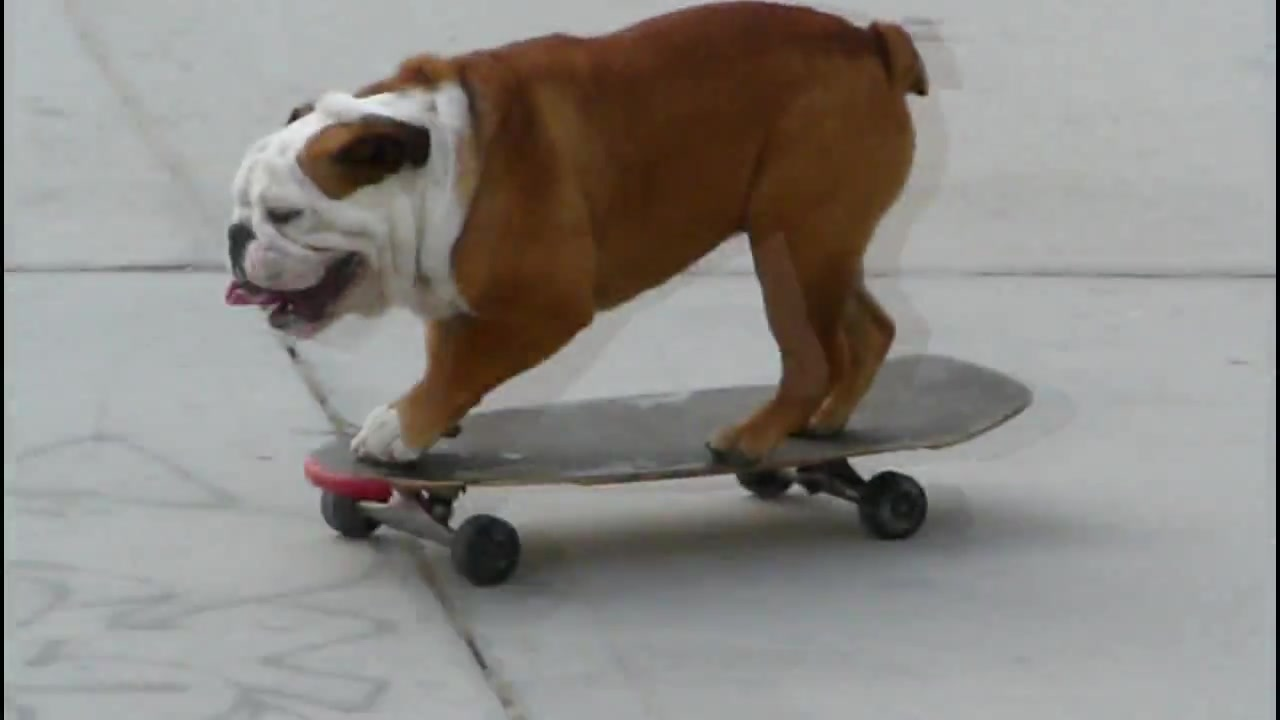dog: (224, 1, 933, 458)
